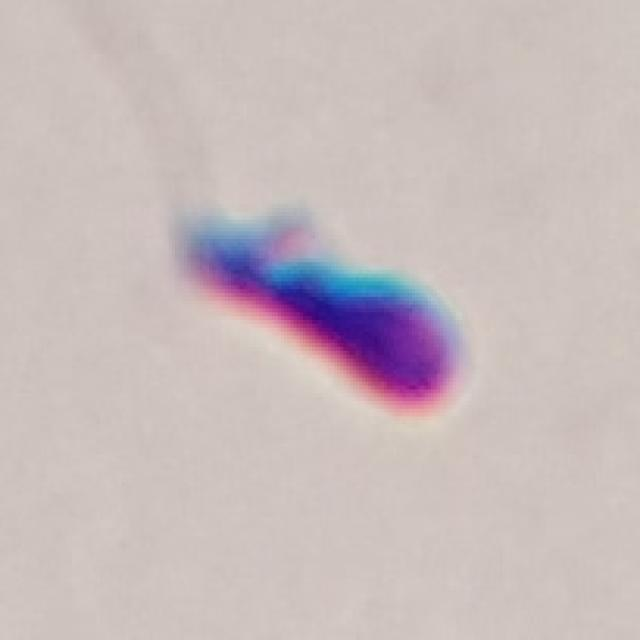abnormal sperm: (83, 11, 488, 411)
